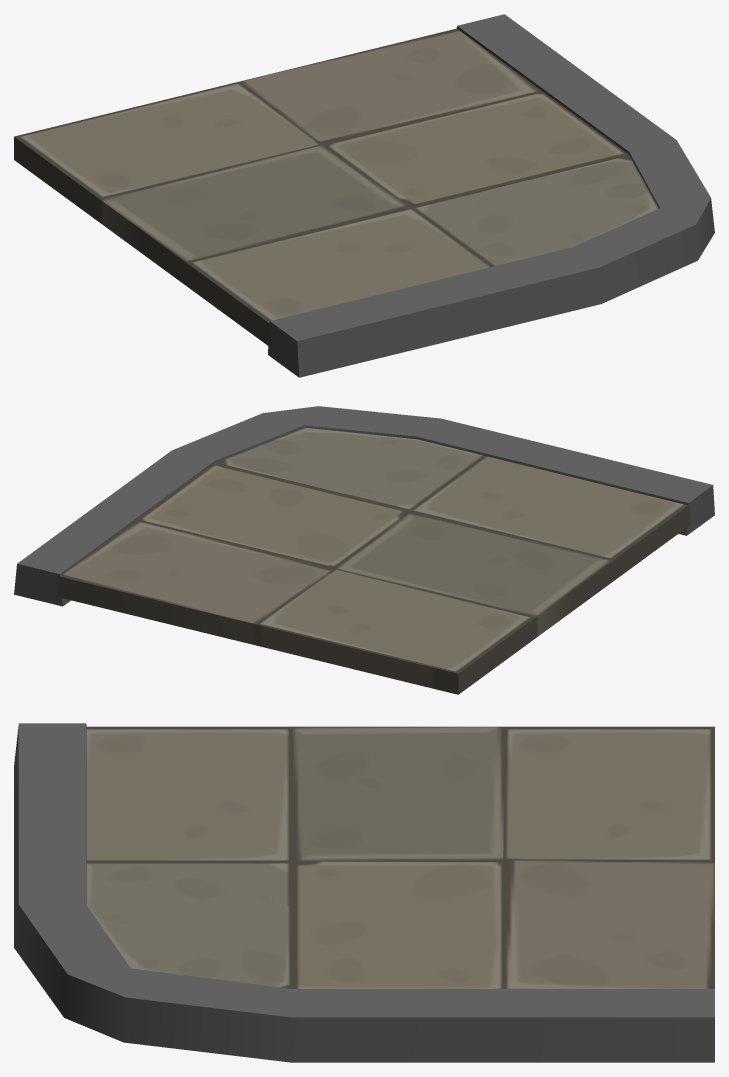
The model's file is Sidewalk_A0.fbx.
3 views of the same model, one above another, from view 1: azimuth 30°, elevation 25°; view 2: azimuth 150°, elevation 25°; view 3: azimuth 270°, elevation 25° (orthographic). The views are drawn at different scales.
Visible parts, largest first — view 1: Sidewalk_A1_Corner; view 2: Sidewalk_A1_Corner; view 3: Sidewalk_A1_Corner.
Part boxes in pixels (x1=…): Sidewalk_A1_Corner: x1=14, y1=14, x2=714, y2=377; Sidewalk_A1_Corner: x1=14, y1=406, x2=714, y2=694; Sidewalk_A1_Corner: x1=14, y1=723, x2=714, y2=1062.
Bounding box in the file's own units: 443 × 30.09 × 443.
